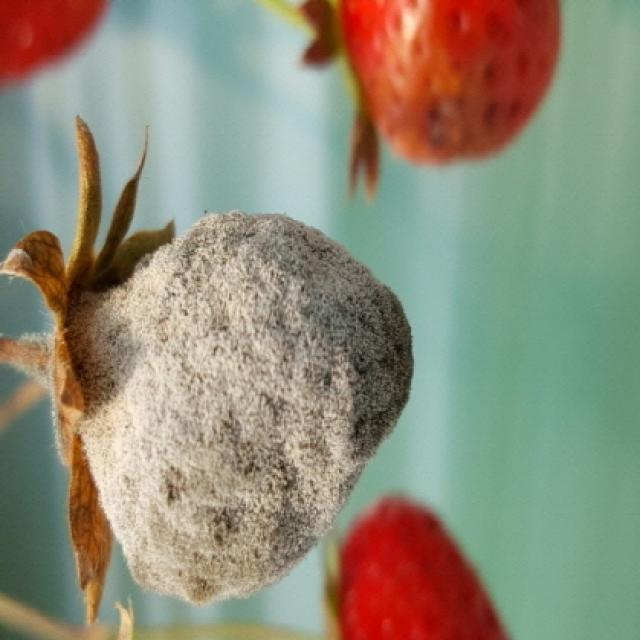Gray Mold: (5, 113, 416, 632)
